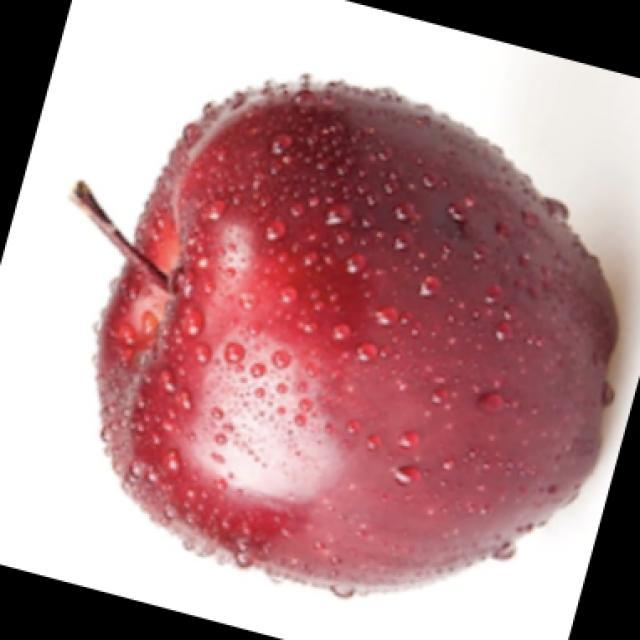Fresh Apple: (126, 96, 640, 571)
